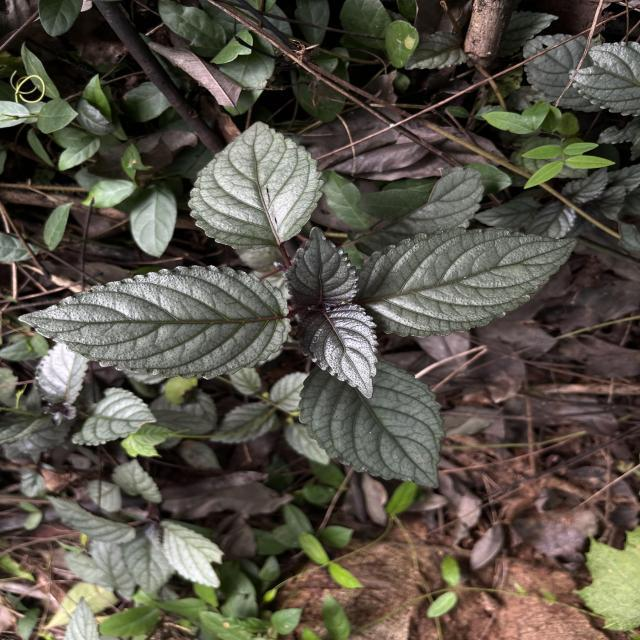Hemigraphis colorata: (15, 262, 296, 384), (356, 225, 584, 340), (292, 353, 448, 492), (186, 118, 328, 252), (292, 302, 380, 402), (282, 224, 363, 310), (567, 40, 640, 119)
